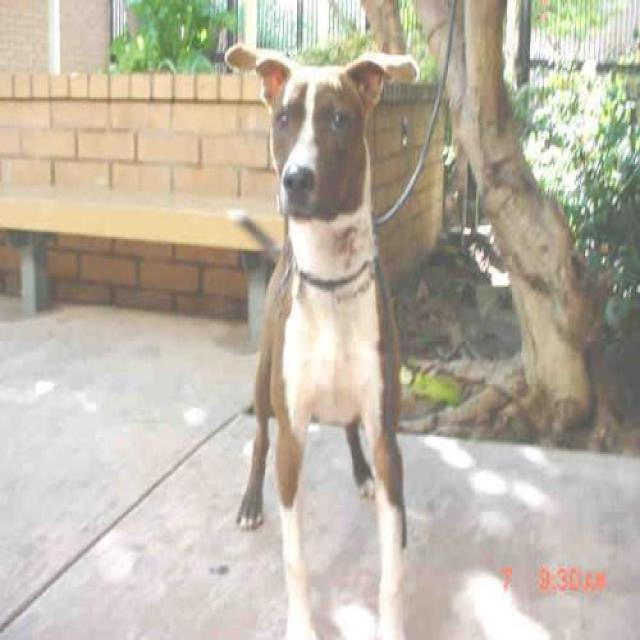Dogs: (222, 39, 418, 638)
